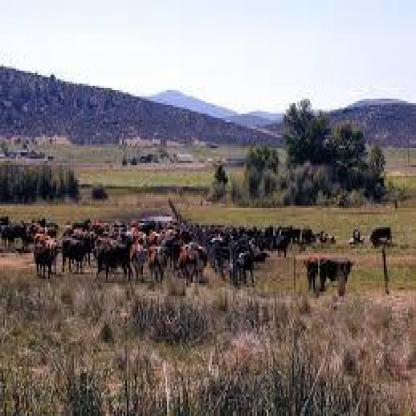cow: (305, 260, 355, 298), (91, 246, 134, 284), (32, 241, 60, 282), (60, 239, 89, 273), (146, 248, 169, 284), (176, 251, 197, 283), (369, 224, 392, 246)
